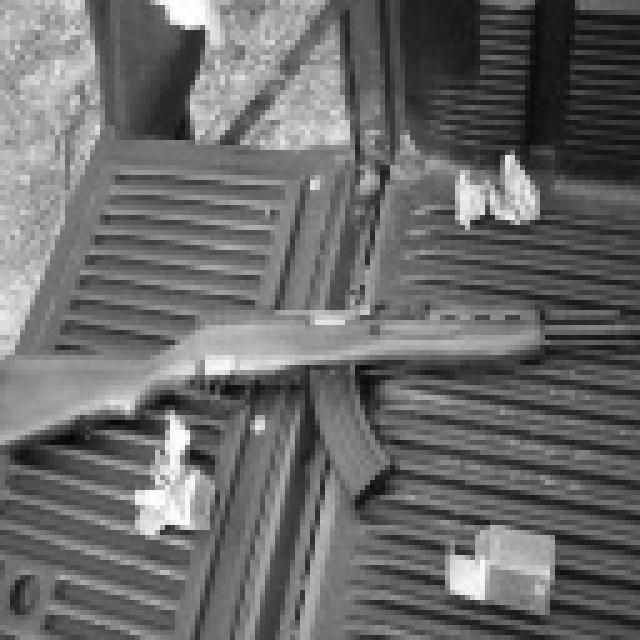Rifle: (0, 269, 640, 532)
